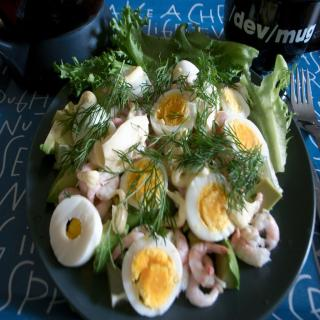Egg: (121, 231, 182, 317), (186, 164, 237, 242), (119, 155, 167, 210), (151, 88, 196, 139), (222, 114, 270, 161), (219, 87, 249, 118)
Salad: (37, 0, 304, 319)
